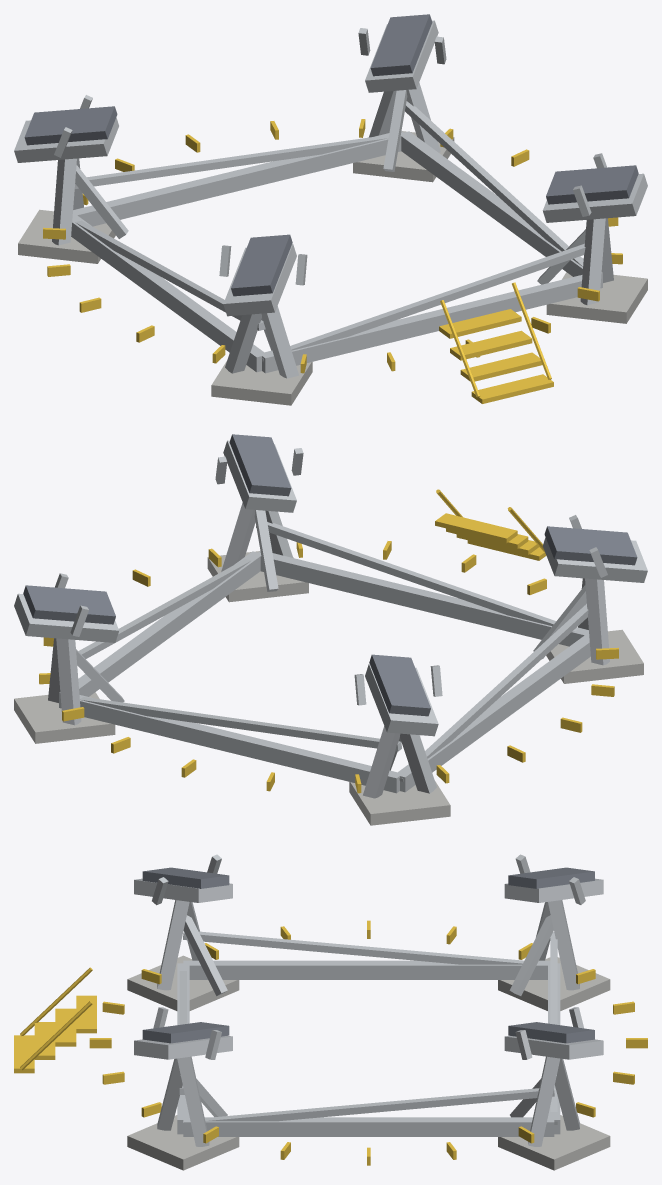
File: ufo-crash-site-and-recovery-facility-craft-cradle-1024c37d__17370.glb
The picture shows the model from 3 angles, top to bottom: view 1: azimuth 30°, elevation 25°; view 2: azimuth 150°, elevation 25°; view 3: azimuth 270°, elevation 25°; orthographic projection. The views are drawn at different scales.
Visible parts, largest first — view 1: craft-cradle; view 2: craft-cradle; view 3: craft-cradle.
Boxes of the visible parts, <box> form: craft-cradle: <box>14,14,647,405</box>; craft-cradle: <box>14,434,647,825</box>; craft-cradle: <box>14,854,647,1170</box>.
Bounding box in the file's own units: 9.16 × 2.32 × 10.4.
